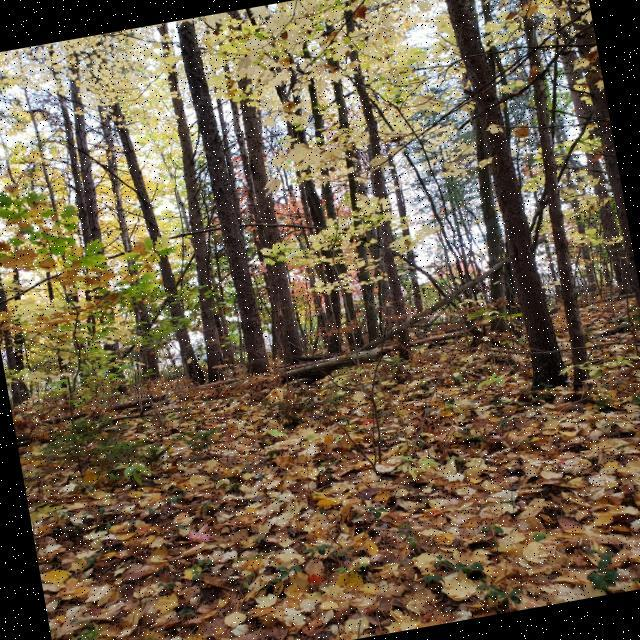fallen_object: (0, 211, 601, 455)
